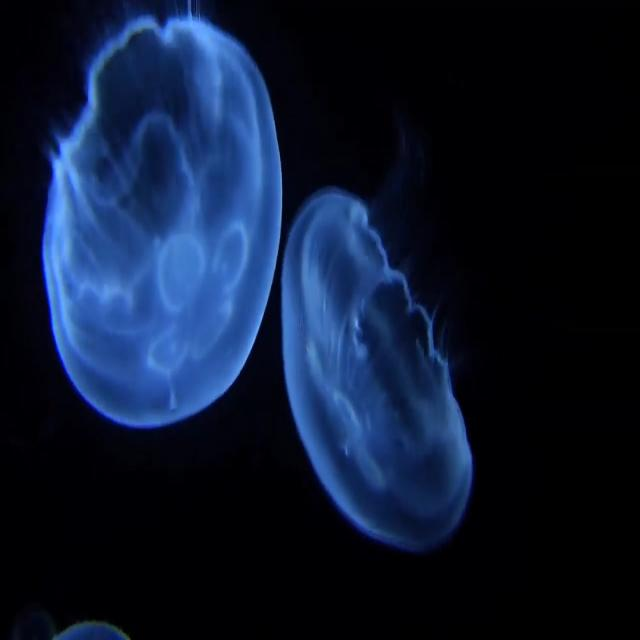Moon-jellyfish: (42, 15, 284, 433), (278, 186, 478, 560)
